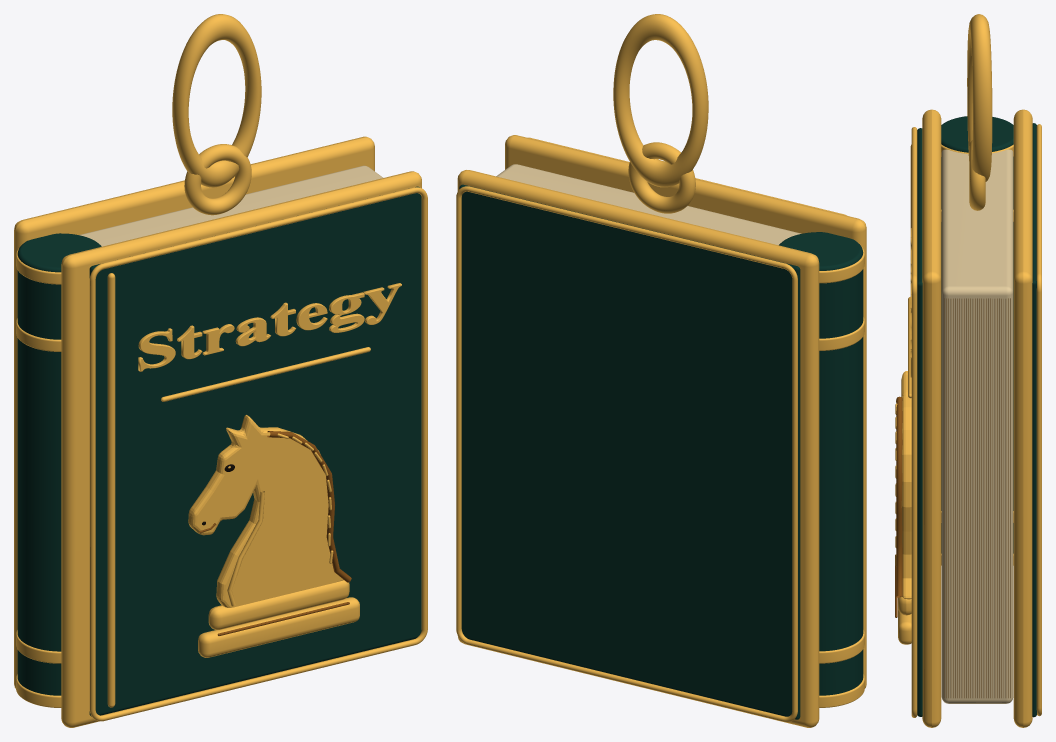
File: 03_strategy_book.glb
The picture shows the model from 3 angles, left to right: view 1: azimuth 30°, elevation 25°; view 2: azimuth 150°, elevation 25°; view 3: azimuth 270°, elevation 25°; orthographic projection. The views are drawn at different scales.
Visible parts, largest first — view 1: Book | front green leather cover, Book | cover gold gilded edge, Book | cylindrical rounded leather spine, Book | solid sculpted chess knight, Book | cover gold gilded edge.001, Book | front continuous gold fillet, Book | oval jump ring, Book | raised Strategy title, Book | ivory page block, Book | fine vertical hinge piping, Book | knight lower pedestal, Book | knight upper pedestal (+3 smaller); view 2: Book | rear green leather inset, Book | cylindrical rounded leather spine, Book | cover gold gilded edge.001, Book | cover gold gilded edge, Book | rear continuous gold fillet, Book | oval jump ring, Book | ivory page block, Book | soldered attachment eye; view 3: Book | ivory page block, Book | cover gold gilded edge, Book | cover gold gilded edge.001, Book | front continuous gold fillet, Book | oval jump ring, Book | rear continuous gold fillet, Book | front green leather cover, Book | rear green leather inset, Book | cylindrical rounded leather spine, Book | solid sculpted chess knight, Book | knight mane outer ridge, Book | individual fore-edge leaf.003 (+34 smaller).
Part boxes in pixels (x1,y1,x2,y2): Book | front green leather cover: (89,186,421,716); Book | cover gold gilded edge: (61,171,421,727); Book | cylindrical rounded leather spine: (17,233,101,695); Book | solid sculpted chess knight: (188,415,343,607); Book | cover gold gilded edge.001: (14,136,374,688); Book | front continuous gold fillet: (89,187,427,721); Book | oval jump ring: (172,14,261,187); Book | raised Strategy title: (138,283,401,371); Book | ivory page block: (79,165,383,246); Book | fine vertical hinge piping: (107,273,115,707); Book | knight lower pedestal: (198,597,359,657); Book | knight upper pedestal: (208,580,349,629); Book | rear green leather inset: (459,184,800,719); Book | cylindrical rounded leather spine: (779,232,863,695); Book | cover gold gilded edge.001: (457,170,819,727); Book | cover gold gilded edge: (505,135,866,688); Book | rear continuous gold fillet: (456,186,797,722); Book | oval jump ring: (613,14,708,187); Book | ivory page block: (496,164,801,245); Book | soldered attachment eye: (628,142,695,213); Book | ivory page block: (941,149,1013,703); Book | cover gold gilded edge: (922,109,941,727); Book | cover gold gilded edge.001: (1013,109,1032,727); Book | front continuous gold fillet: (911,127,917,717); Book | oval jump ring: (967,14,992,181); Book | rear continuous gold fillet: (1036,124,1041,716); Book | front green leather cover: (917,128,922,716); Book | rear green leather inset: (1032,123,1036,717); Book | cylindrical rounded leather spine: (941,116,1013,553); Book | solid sculpted chess knight: (901,371,911,599); Book | knight mane outer ridge: (896,396,902,597); Book | individual fore-edge leaf.003: (950,299,951,697).
Bounding box in the file's own units: 0.0361 × 0.06 × 0.0127.
